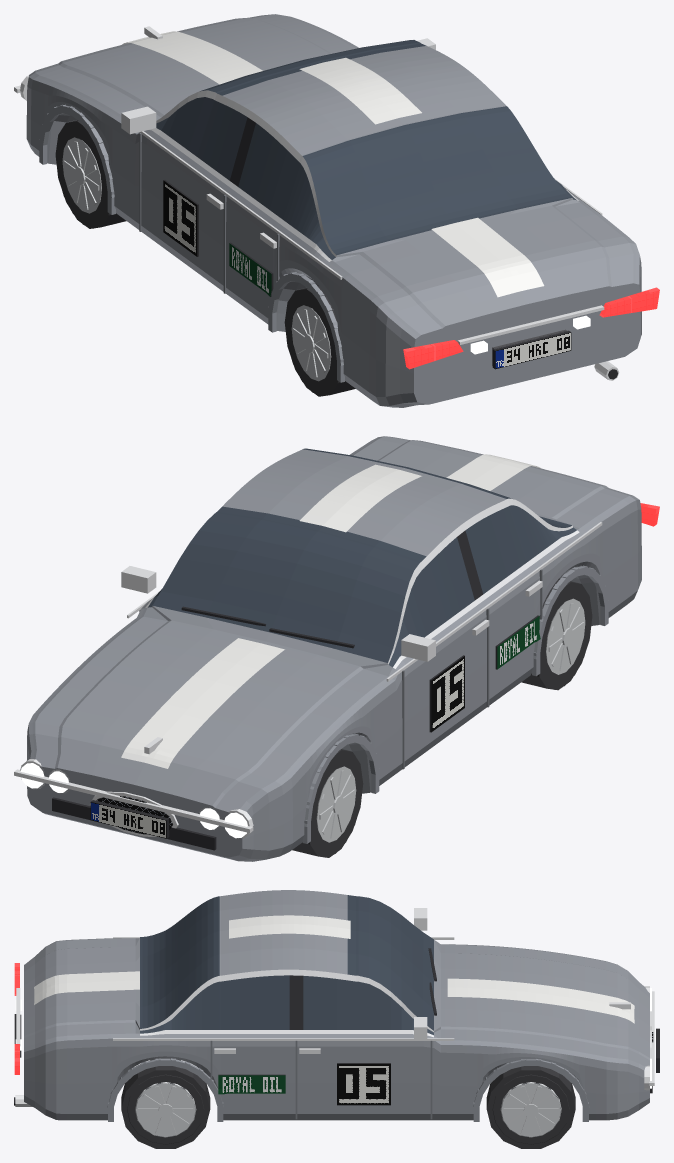
Rendered from harcourt.glb.
The picture shows the model from 3 angles, top to bottom: view 1: azimuth 30°, elevation 25°; view 2: azimuth 150°, elevation 25°; view 3: azimuth 270°, elevation 25°; orthographic projection. The views are drawn at different scales.
Parts seen in each view (by area): view 1: body.017, livery.016, wheel_RL.017, wheel_FL.017; view 2: body.017, livery.016, wheel_RL.017, wheel_FL.017; view 3: body.017, livery.016, wheel_RR.017, wheel_FR.017.
Part boxes in pixels (x1=…): body.017: x1=14, y1=14, x2=659, y2=407; livery.016: x1=122, y1=31, x2=544, y2=297; wheel_RL.017: x1=284, y1=285, x2=355, y2=396; wheel_FL.017: x1=55, y1=120, x2=126, y2=228; body.017: x1=14, y1=436, x2=659, y2=861; livery.016: x1=121, y1=454, x2=540, y2=768; wheel_RL.017: x1=521, y1=578, x2=592, y2=690; wheel_FL.017: x1=292, y1=749, x2=363, y2=857; body.017: x1=14, y1=890, x2=659, y2=1121; livery.016: x1=34, y1=915, x2=634, y2=1105; wheel_RR.017: x1=121, y1=1059, x2=210, y2=1148; wheel_FR.017: x1=486, y1=1066, x2=575, y2=1148.
Size of the model in its own units: 2.09 by 1.44 by 4.79.
Materials: 16 (6 with a texture image).
